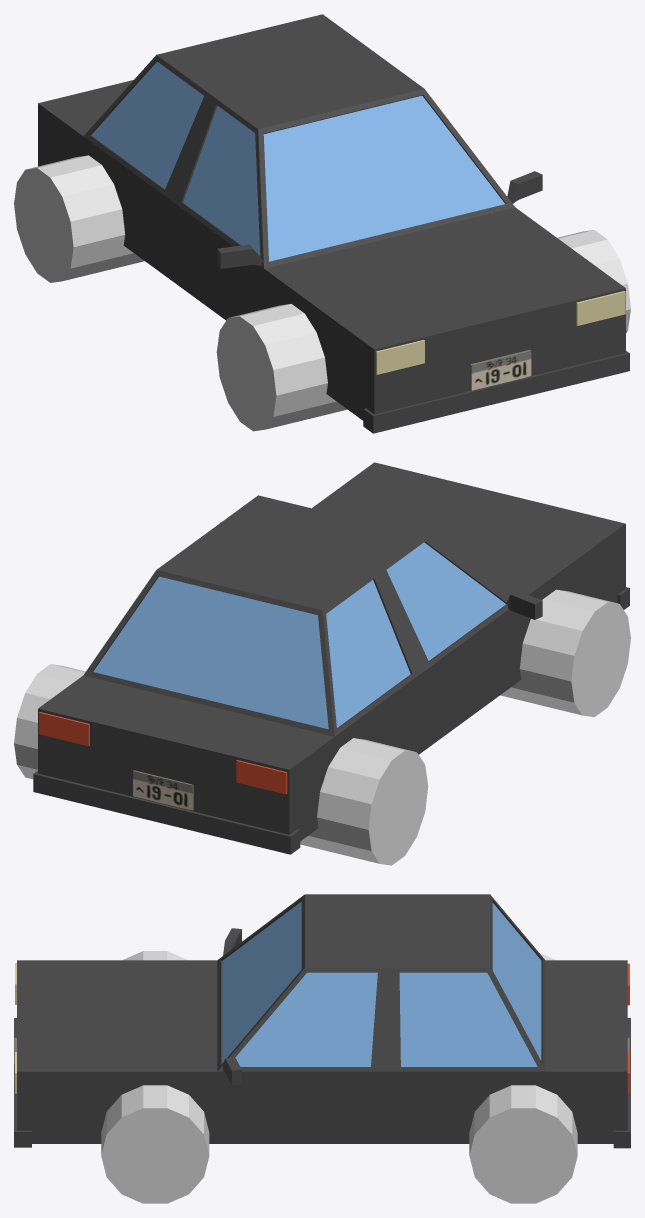
Rendered from car4.fbx.
3 renders of one model, top to bottom at view 1: azimuth 30°, elevation 25°; view 2: azimuth 150°, elevation 25°; view 3: azimuth 270°, elevation 25°, orthographic. The views are drawn at different scales.
Parts seen in each view (by area): view 1: Cube, Cylinder, Cylinder.002, Cube.003, Cube.001, Cube.002, Cylinder.005; view 2: Cube, Cylinder.002, Cylinder, Cube.005, Cylinder.003, Cube.004, Cube.002; view 3: Cube, Cylinder, Cylinder.002, Cylinder.005, Cylinder.003, Cube.002.
Part boxes in pixels (x1,y1,x2,y2): Cube: (35,14,629,433); Cylinder: (216,230,630,431); Cylinder.002: (14,155,144,282); Cube.003: (376,291,625,374); Cube.001: (470,350,531,390); Cube.002: (217,171,542,268); Cylinder.005: (557,230,630,332); Cube: (33,462,629,854); Cylinder.002: (14,664,428,865); Cylinder: (500,589,630,717); Cube.005: (39,712,287,794); Cylinder.003: (14,664,84,778); Cube.004: (133,770,193,810); Cube.002: (220,522,542,619); Cube: (14,894,630,1148); Cylinder: (101,951,209,1203); Cylinder.002: (469,953,577,1203); Cylinder.005: (101,1085,209,1153); Cylinder.003: (469,1085,577,1153); Cube.002: (223,928,241,1084).
Bounding box in the file's own units: 431 × 248 × 715.
